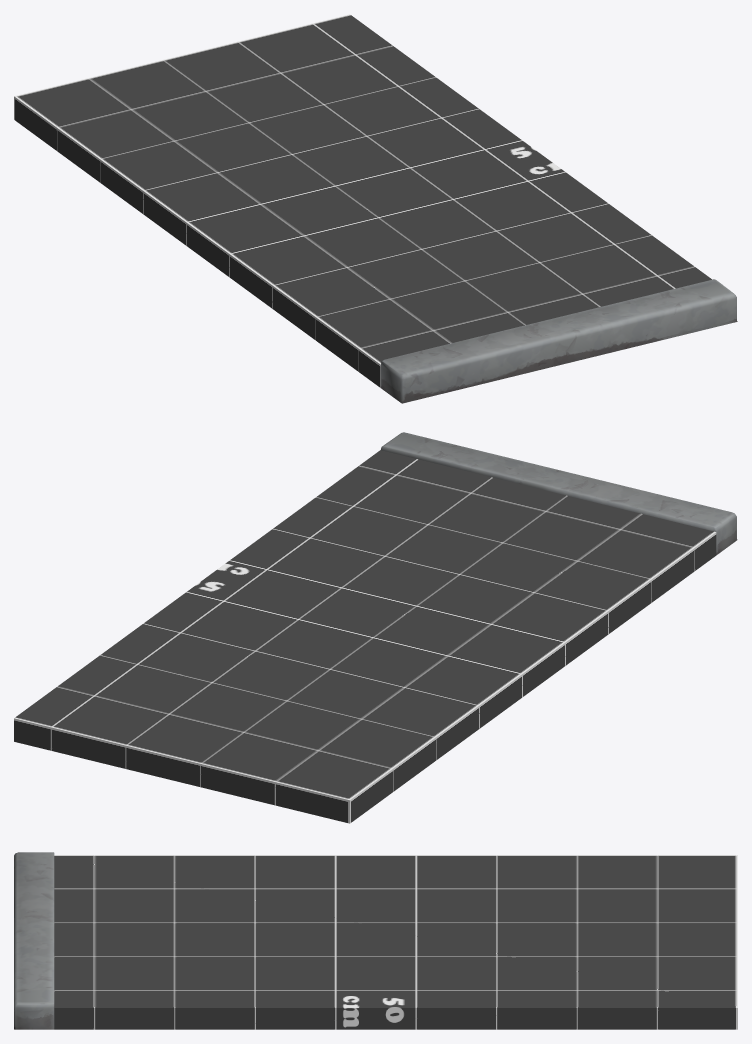
File: M02SideWalk03_2.FBX
The picture shows the model from 3 angles, top to bottom: view 1: azimuth 30°, elevation 25°; view 2: azimuth 150°, elevation 25°; view 3: azimuth 270°, elevation 25°; orthographic projection. The views are drawn at different scales.
Visible parts, largest first — view 1: M02SideWalk03_2; view 2: M02SideWalk03_2; view 3: M02SideWalk03_2.
Part boxes in pixels (box(x1,y1,x2,y2)): M02SideWalk03_2: box(14, 14, 737, 403); M02SideWalk03_2: box(14, 432, 737, 823); M02SideWalk03_2: box(14, 852, 737, 1029).
Size of what is drawn, in the model's own units: 2.25 by 0.1783 by 4.5.
